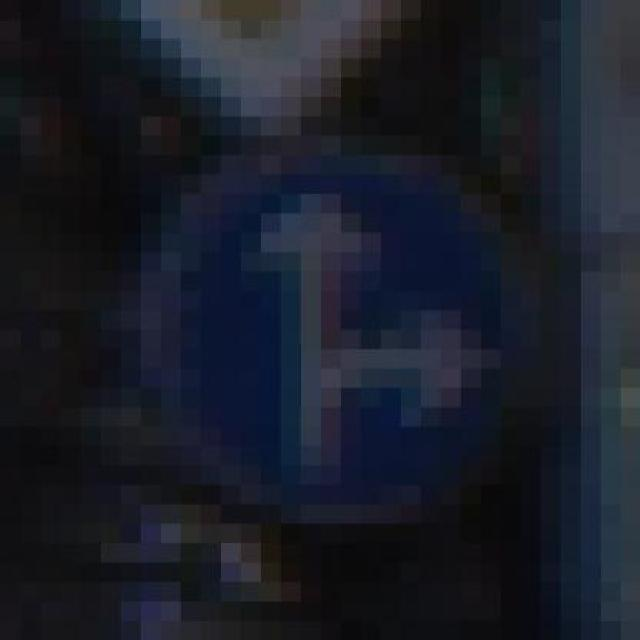Go Straight or Turn Right: (120, 116, 580, 562)
